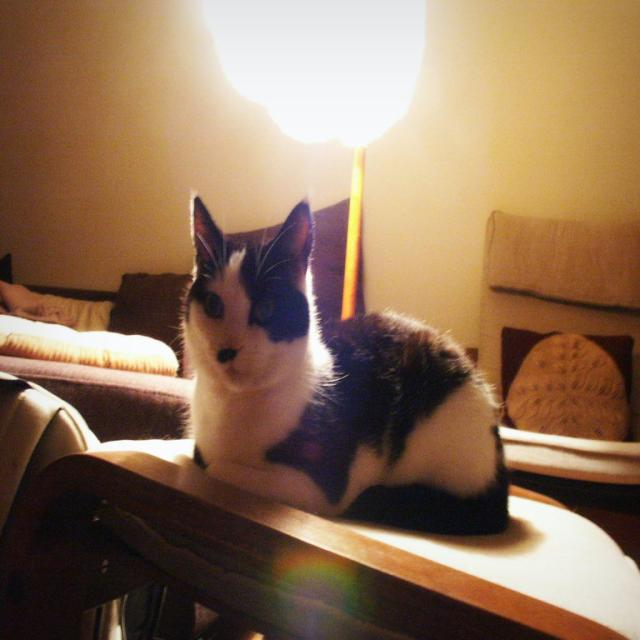Cat: (170, 187, 512, 541)
